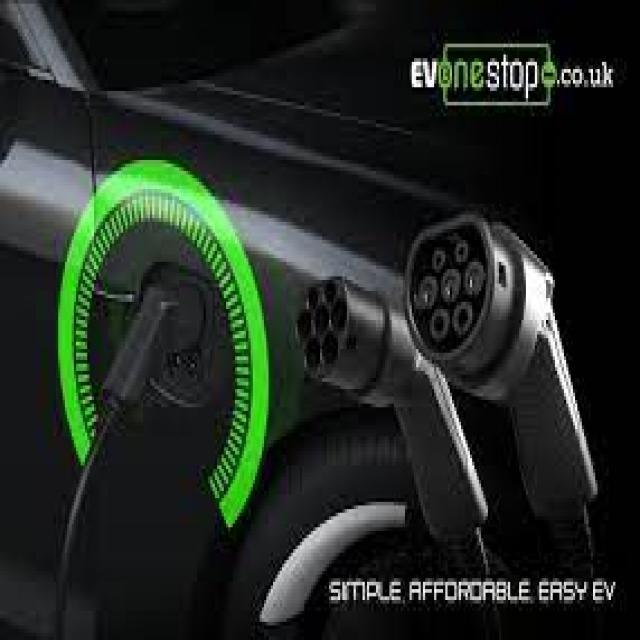Type 2: (369, 212, 548, 387)
